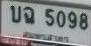letters: (10, 5, 21, 22), (24, 7, 34, 24), (45, 9, 55, 26), (68, 11, 77, 28), (79, 13, 88, 30), (57, 11, 66, 27)
province: (23, 32, 69, 42)
